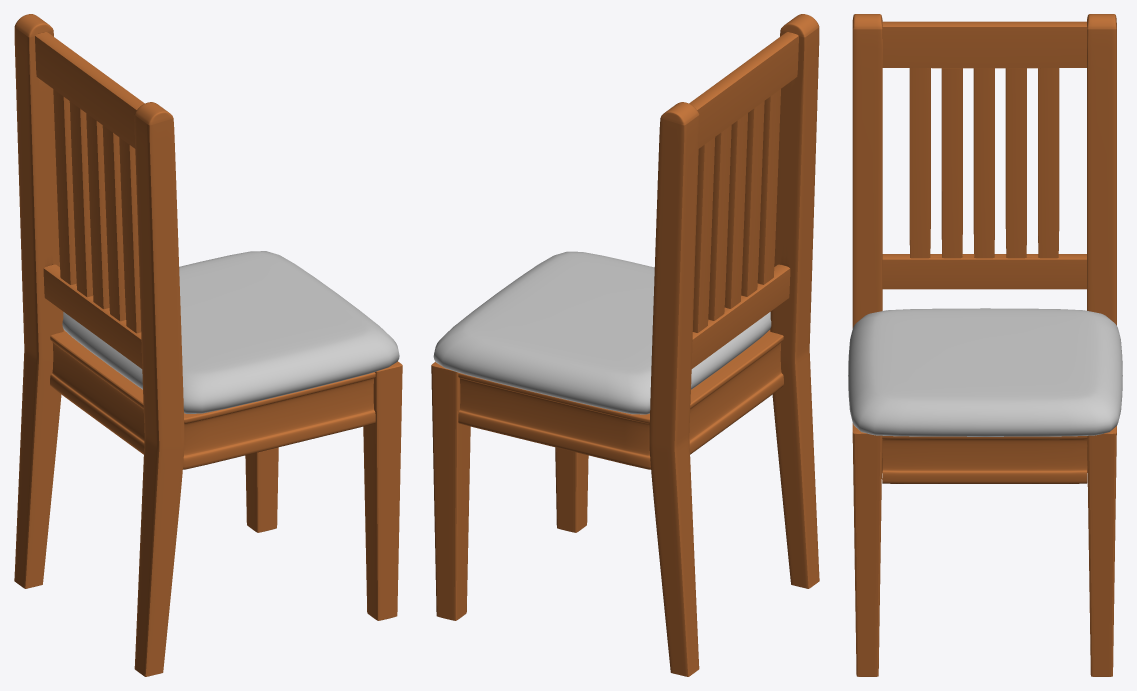
File: chair.fbx
The picture shows the model from 3 angles, left to right: view 1: azimuth 30°, elevation 25°; view 2: azimuth 150°, elevation 25°; view 3: azimuth 270°, elevation 25°; orthographic projection. The views are drawn at different scales.
Visible parts, largest first — view 1: lefgs_back, pillow, base, bacK_inner_borders, legs_front, back_borders; view 2: lefgs_back, pillow, base, bacK_inner_borders, legs_front, back_borders; view 3: pillow, bacK_inner_borders, lefgs_back, back_borders, legs_front, base.
Boxes of the visible parts, x1,y1,x2,y2 form: lefgs_back: (14,14,184,676); pillow: (62,251,399,413); base: (50,330,375,469); bacK_inner_borders: (53,89,141,333); legs_front: (245,361,402,620); back_borders: (35,32,144,368); lefgs_back: (649,14,819,676); pillow: (433,251,771,414); base: (458,330,783,469); bacK_inner_borders: (692,89,780,332); legs_front: (431,362,588,620); back_borders: (689,32,798,368); pillow: (848,308,1122,436); bacK_inner_borders: (909,68,1059,258); lefgs_back: (852,14,1116,328); back_borders: (882,21,1086,289); legs_front: (852,423,1116,676); base: (882,435,1087,483).
Bounding box in the file's own units: 227 × 461 × 209.
